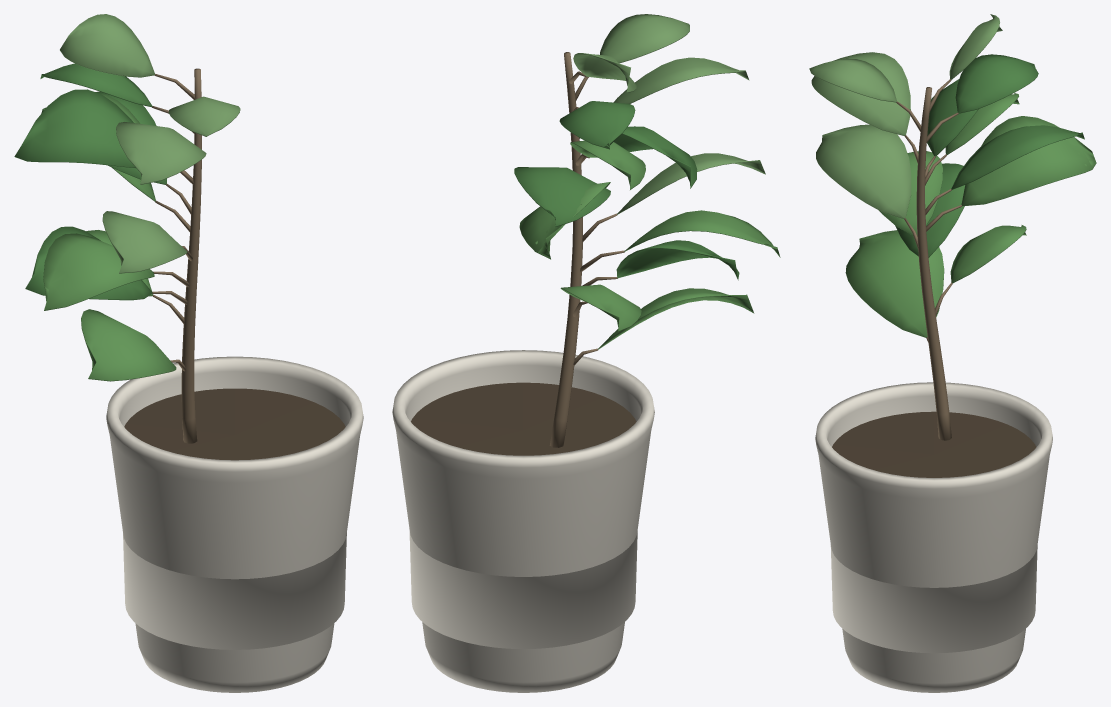
The model's file is BroadleafCompact.fbx.
The picture shows the model from 3 angles, left to right: view 1: azimuth 30°, elevation 25°; view 2: azimuth 150°, elevation 25°; view 3: azimuth 270°, elevation 25°; orthographic projection. The views are drawn at different scales.
Visible parts, largest first — view 1: BroadleafCompact; view 2: BroadleafCompact; view 3: BroadleafCompact.
Boxes of the visible parts, left/top/right/bottom form: BroadleafCompact: left=14, top=14, right=363, bottom=692; BroadleafCompact: left=392, top=14, right=780, bottom=692; BroadleafCompact: left=809, top=14, right=1096, bottom=692.
Bounding box in the file's own units: 0.6901 × 1.26 × 0.5579.
